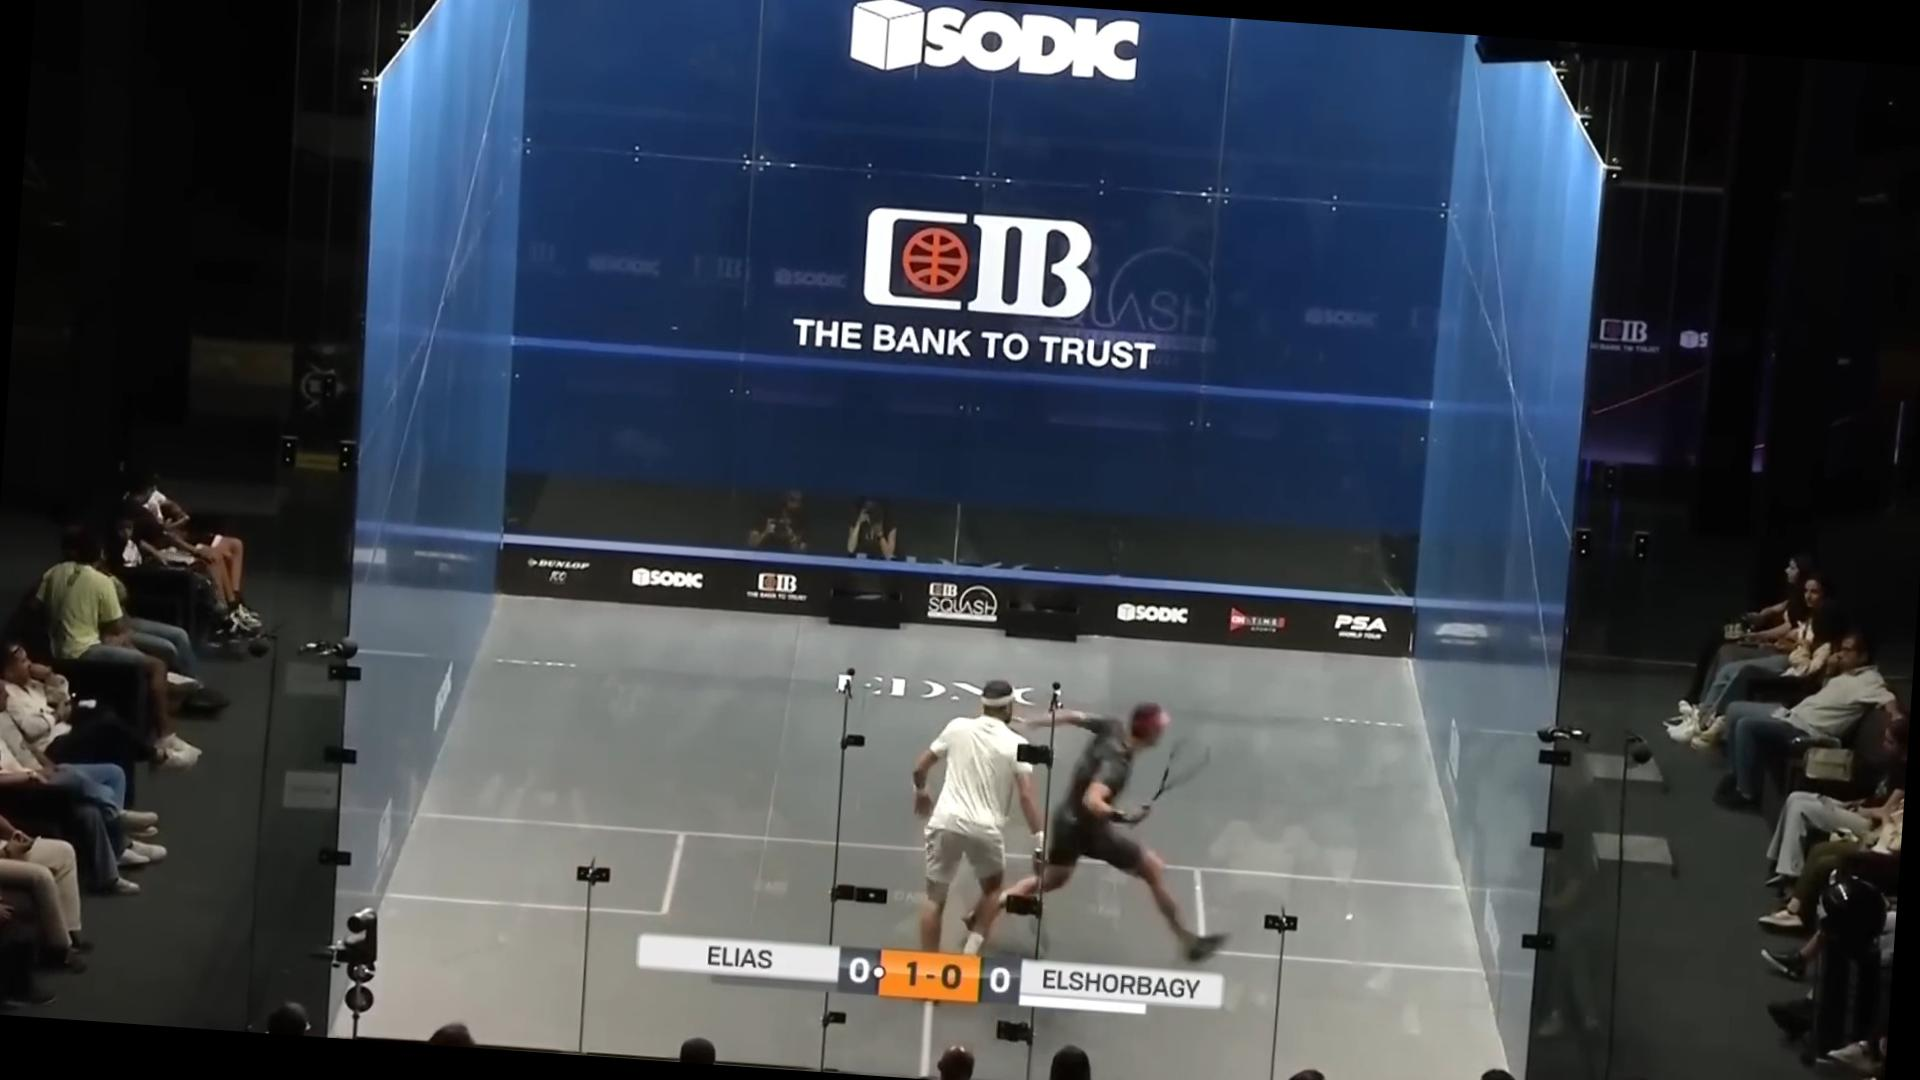Squash-Ball: (1336, 905, 1362, 932)
